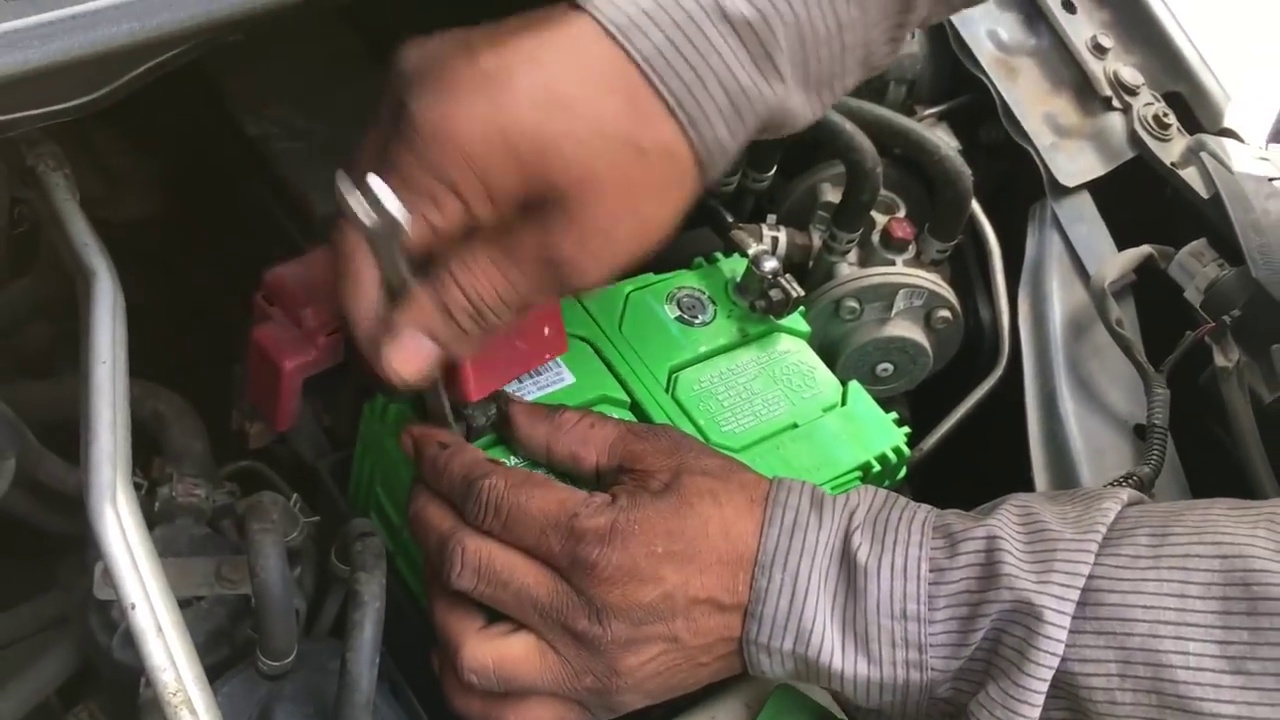battery: (371, 247, 912, 539)
neg_connected: (713, 209, 807, 358)
pos_touched: (319, 231, 600, 537)
